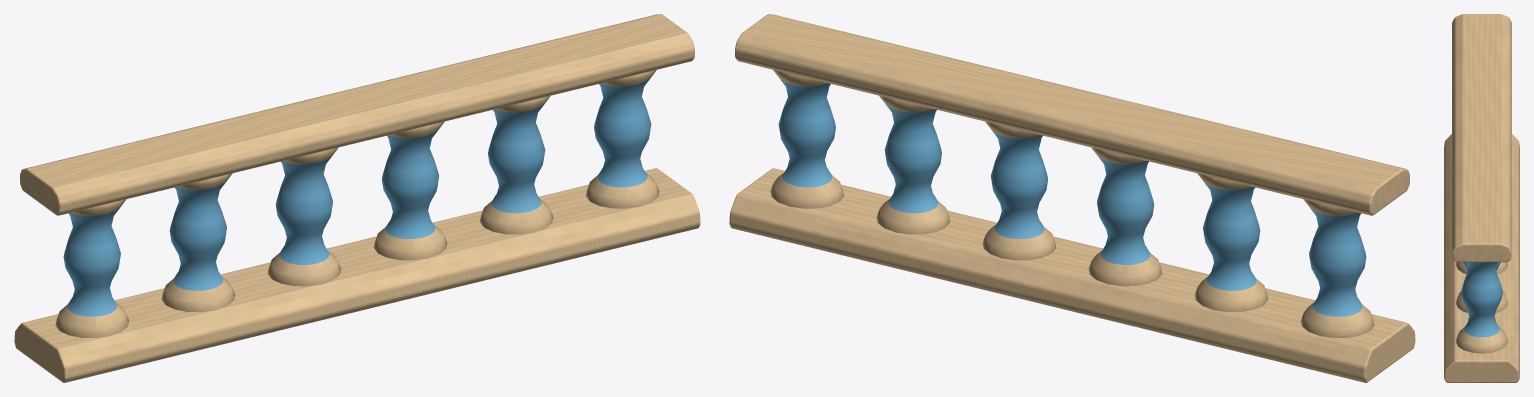
File: east-rail.glb
3 views of the same model, side by side, from view 1: azimuth 30°, elevation 25°; view 2: azimuth 150°, elevation 25°; view 3: azimuth 270°, elevation 25° (orthographic). The views are drawn at different scales.
Visible parts, largest first — view 1: east-rail; view 2: east-rail; view 3: east-rail.
Boxes of the visible parts, x1,y1,x2,y2 form: east-rail: [14, 14, 700, 382]; east-rail: [729, 14, 1415, 382]; east-rail: [1444, 14, 1519, 382].
Size of the model in its own units: 2.65 by 0.748 by 0.3685.
Materials: 2 (1 with a texture image).
